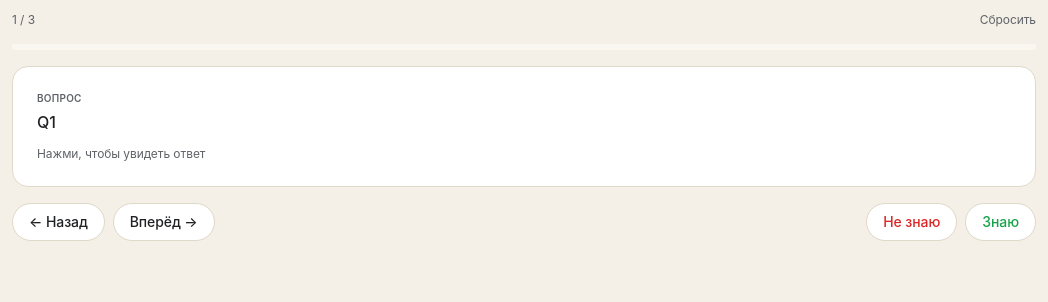
Test: FlashcardDeck › flips the card on click, showing the answer
Click the button with test id "flashcard-card": (59, 98) [12,66,1036,187]
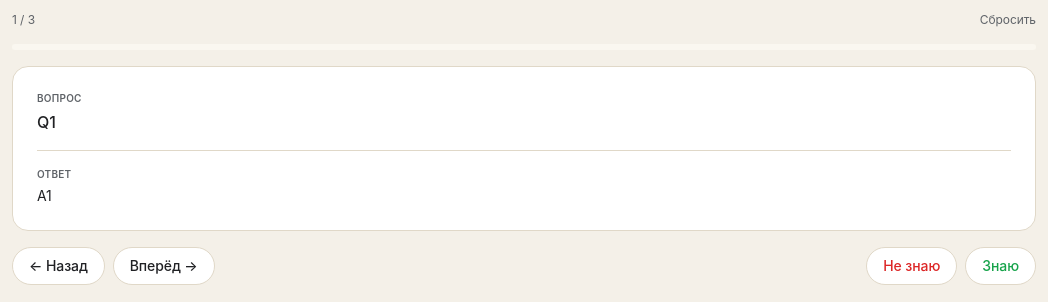
Now the text "A1" is shown, box [37,187,52,204]
